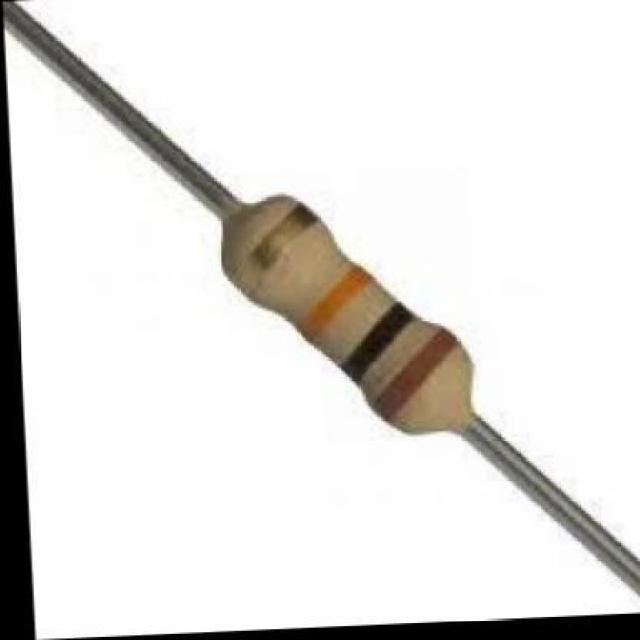Resistor: (6, 4, 640, 592)
